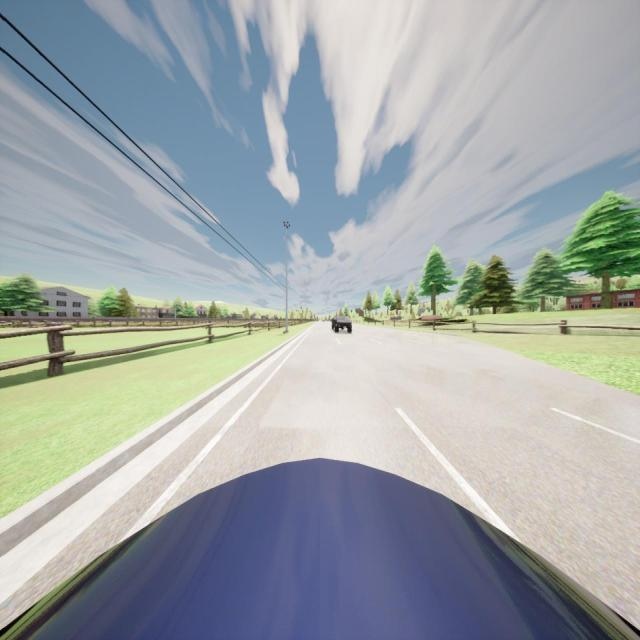Vehicle: (0, 458, 640, 640), (332, 312, 352, 332)
